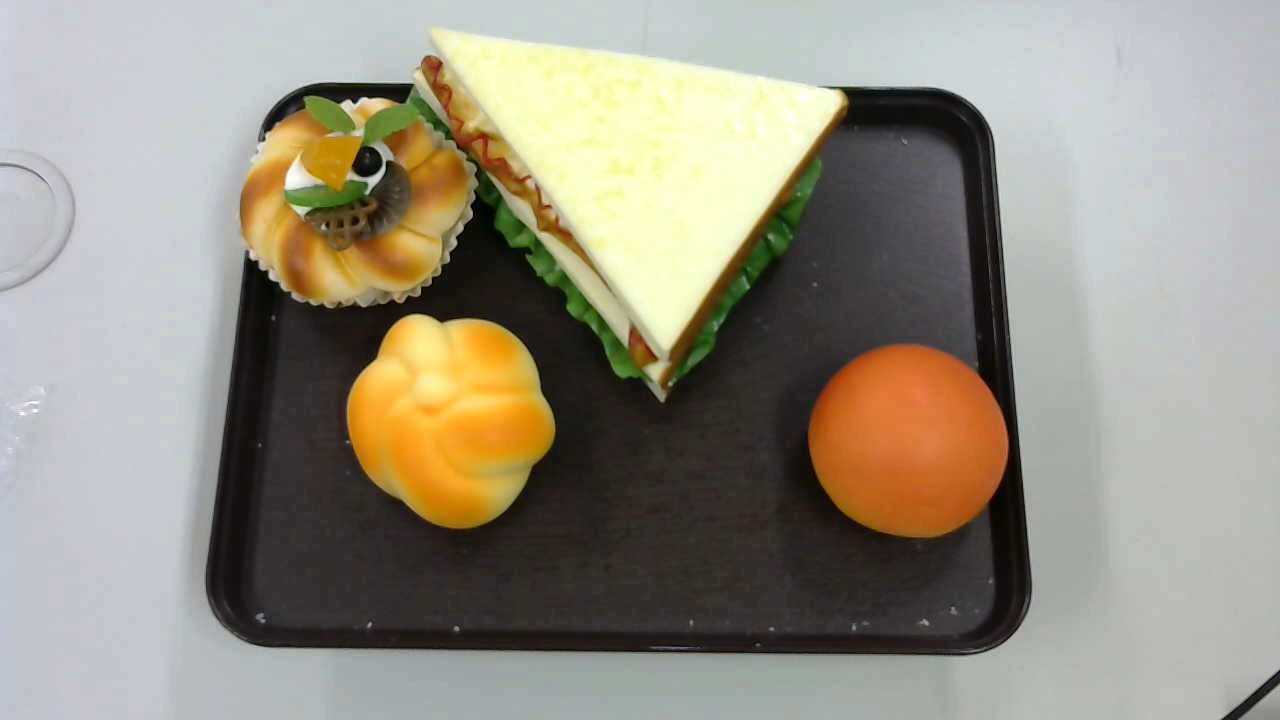bun: (806, 342, 1009, 541)
fruit tart: (236, 94, 476, 308)
sandwich: (404, 25, 849, 407)
twist bread: (345, 312, 557, 532)
